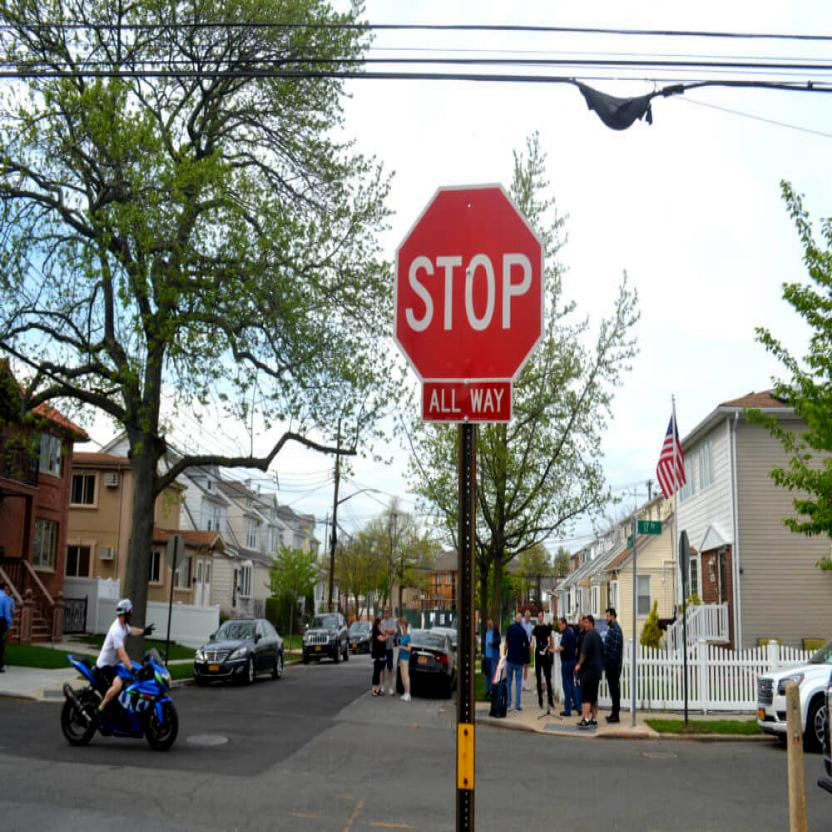Pole: (452, 420, 476, 826), (632, 552, 638, 724), (682, 582, 686, 724)
Sign: (392, 187, 546, 389)
